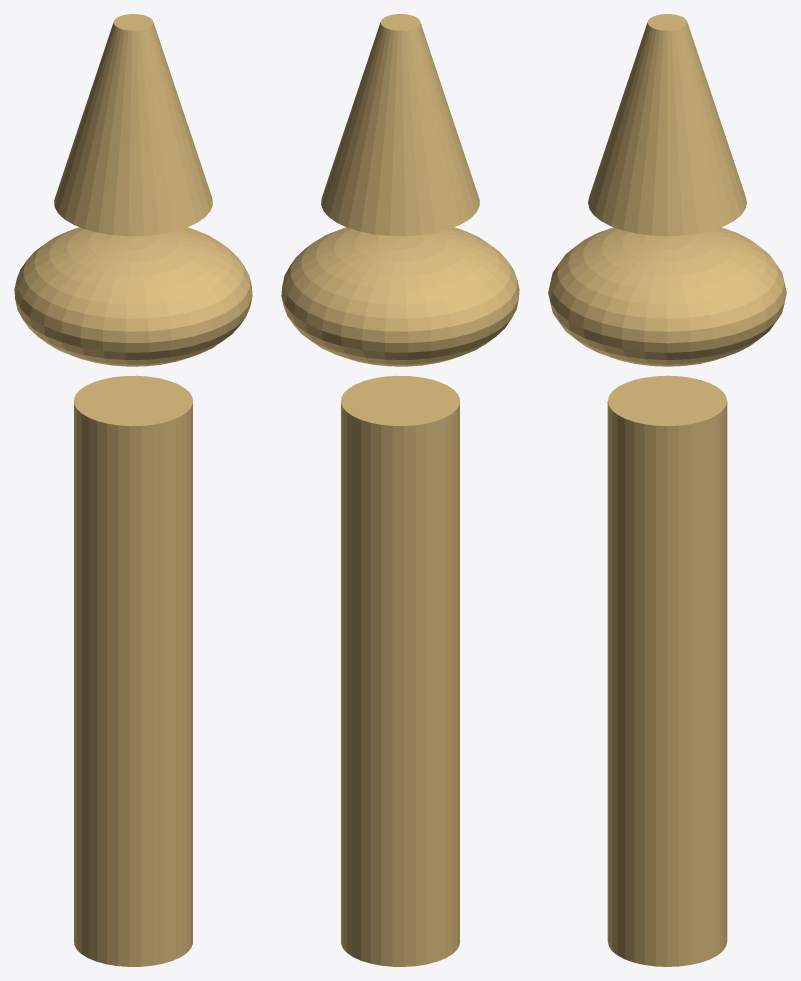
Rendered from torch_brazier.glb.
3 views of the same model, side by side, from view 1: azimuth 30°, elevation 25°; view 2: azimuth 150°, elevation 25°; view 3: azimuth 270°, elevation 25° (orthographic).
Visible parts, largest first — view 1: Brazier_Stand; view 2: Brazier_Stand; view 3: Brazier_Stand.
Boxes of the visible parts, <box> form: Brazier_Stand: <box>14,14,252,966</box>; Brazier_Stand: <box>281,14,519,966</box>; Brazier_Stand: <box>548,14,786,966</box>.
Size of the model in its own units: 0.6 by 2.55 by 0.6.
